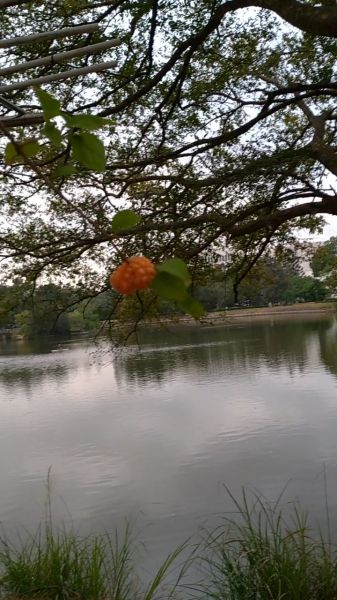eggs: (102, 251, 160, 295)
